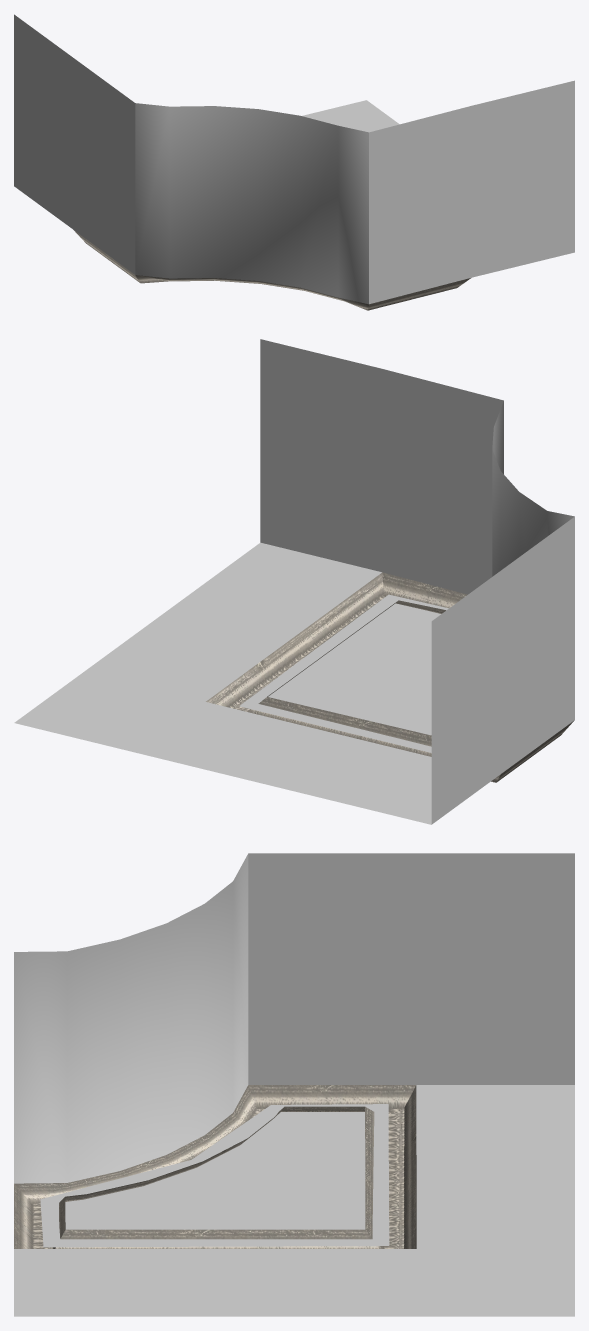
Rendered from SophetCorner.fbx.
The picture shows the model from 3 angles, top to bottom: view 1: azimuth 30°, elevation 25°; view 2: azimuth 150°, elevation 25°; view 3: azimuth 270°, elevation 25°; orthographic projection. The views are drawn at different scales.
Visible parts, largest first — view 1: CeilingCorner.007; view 2: CeilingCorner.007; view 3: CeilingCorner.007.
Part boxes in pixels (x1,y1,x2,y2): CeilingCorner.007: (14, 14, 574, 310); CeilingCorner.007: (14, 339, 574, 824); CeilingCorner.007: (14, 853, 574, 1316).
Size of the model in its own units: 808 by 407 by 826.
